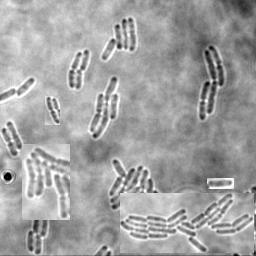Dividing: (67, 52, 81, 89), (1, 128, 18, 157), (45, 96, 60, 125), (207, 178, 234, 189)
Microcolony: (120, 193, 254, 253), (22, 144, 70, 220), (88, 76, 119, 139), (199, 45, 224, 121), (101, 18, 136, 61), (27, 221, 48, 255)
Rod: (5, 121, 23, 150), (16, 78, 34, 99), (79, 50, 89, 72), (73, 69, 82, 90)
